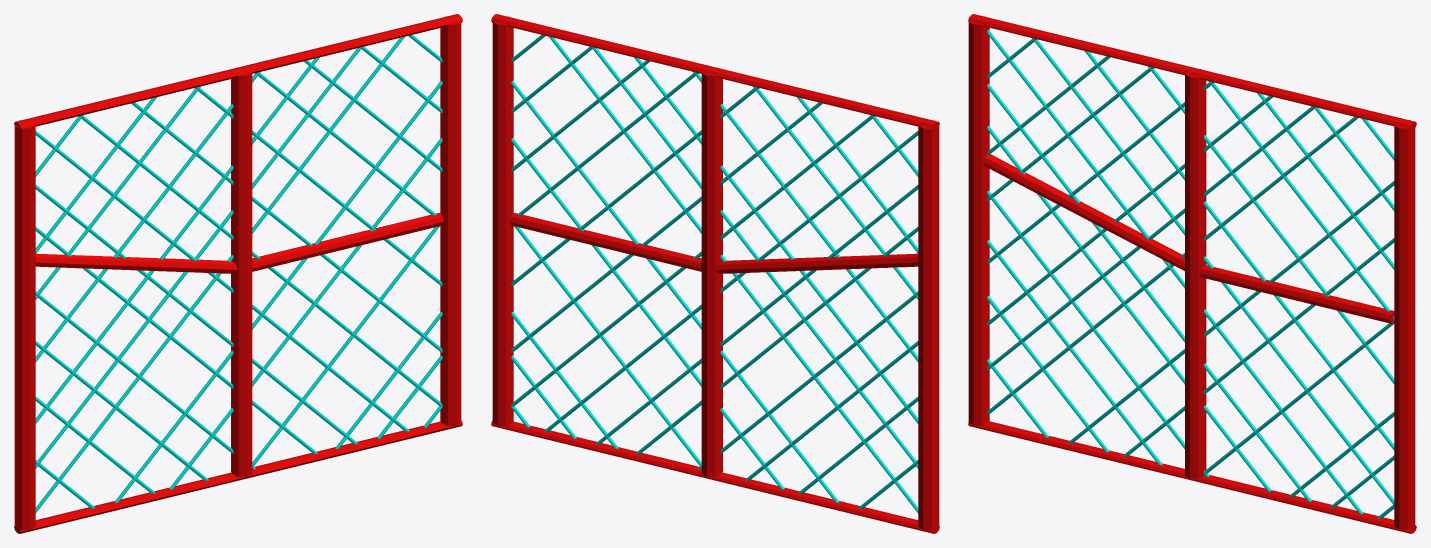
File: FenceModel1.fbx
3 views of the same model, side by side, from view 1: azimuth 30°, elevation 25°; view 2: azimuth 150°, elevation 25°; view 3: azimuth 330°, elevation 25° (orthographic).
Visible parts, largest first — view 1: pCube203; view 2: pCube203; view 3: pCube203.
Boxes of the visible parts, left/top/right/bottom form: pCube203: left=14, top=14, right=462, bottom=533; pCube203: left=491, top=14, right=939, bottom=533; pCube203: left=968, top=14, right=1416, bottom=533.
Size of the model in its own units: 11.18 by 9.87 by 0.4789.
